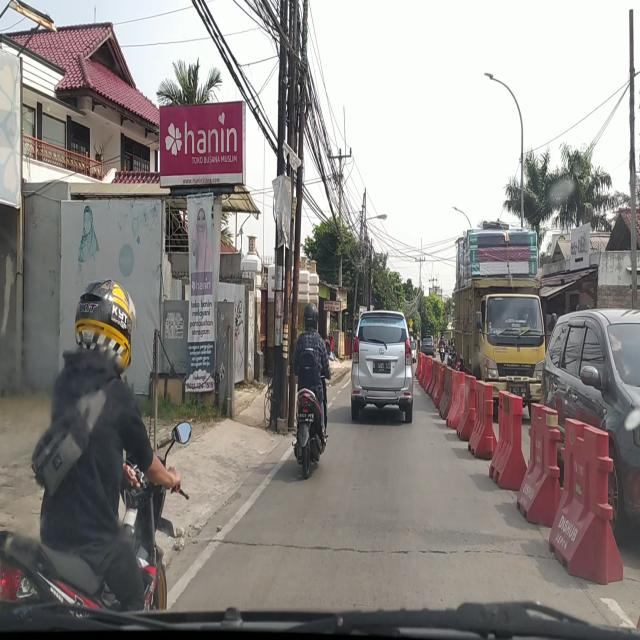Sewer Cover: (218, 536, 546, 561)
